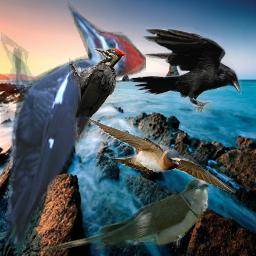Crow: (125, 27, 242, 112)
Cuckoo: (38, 177, 209, 255)
Swallow: (83, 114, 237, 193)
Woodpecker: (1, 0, 146, 255), (69, 48, 126, 142)
